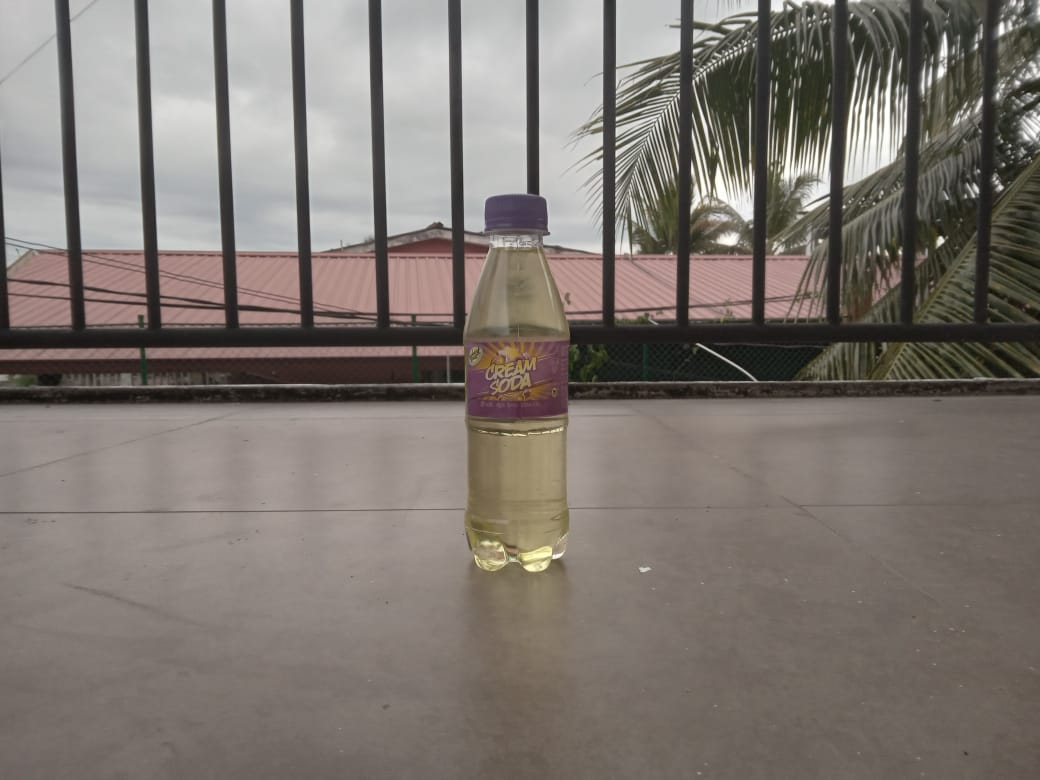Xs: (456, 189, 580, 585)
